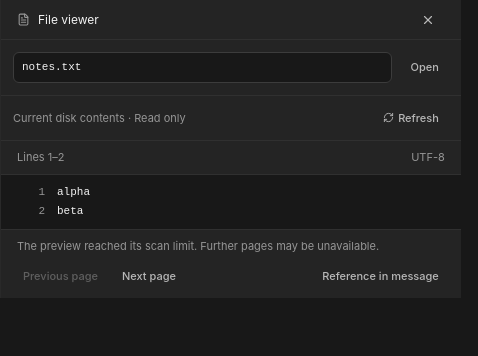
FilePanel › does not promise continuation beyond the scan ceiling
This screenshot has width=478, height=356.
Expected: the text "Further pages may be unavailable" is shown, [17,238,379,252]
Click the button "Next page": (149, 276) [112,262,186,290]
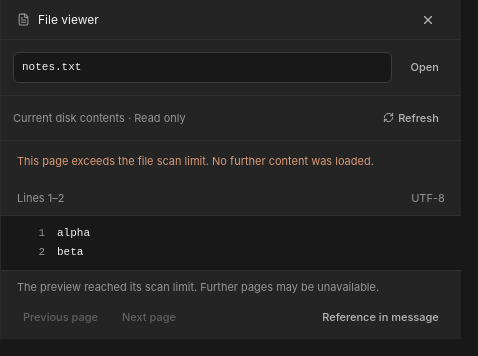
Expected: the text "alpha" is shown, [57,226,90,238]
Now the message shows "scan limit", box [17,154,374,168]
Now the button "Next page" is disabled, box [112,302,186,331]
